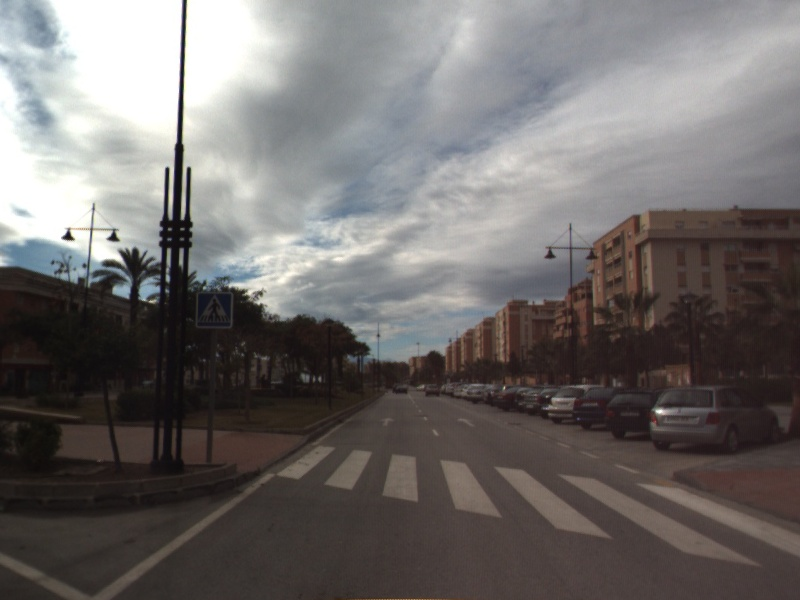STRAIGHT: (455, 416, 477, 429), (378, 415, 397, 428)
